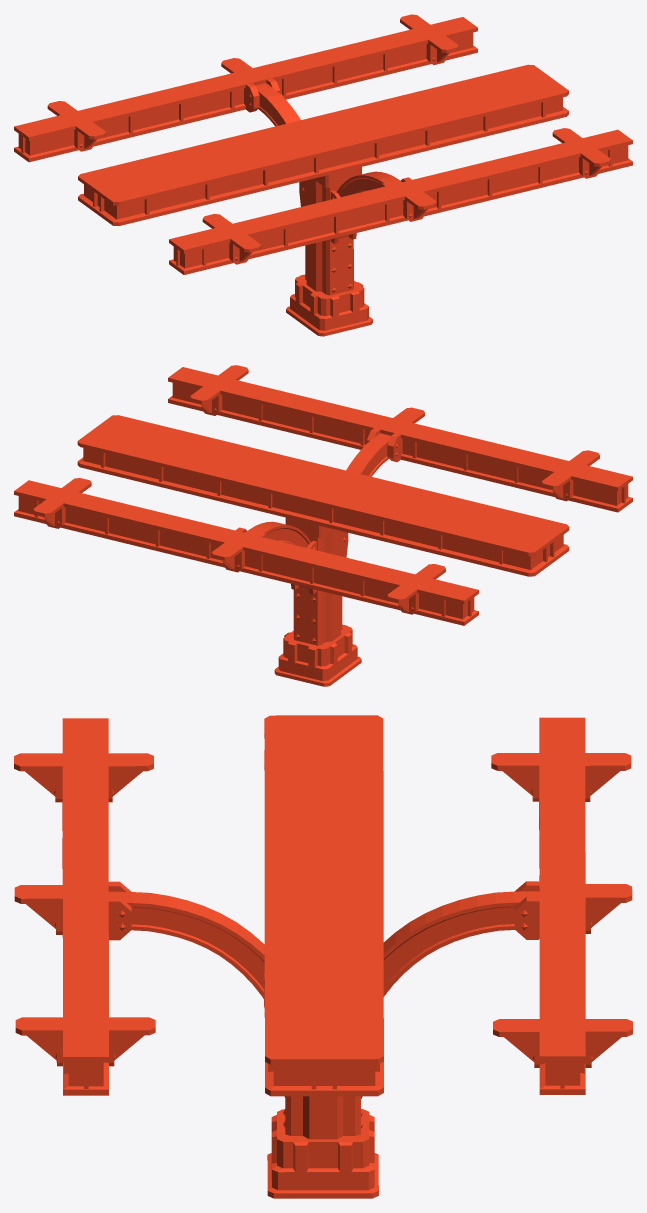
File: SM_Rails_Overground_Pillar_B_City.fbx
3 views of the same model, one above another, from view 1: azimuth 30°, elevation 25°; view 2: azimuth 150°, elevation 25°; view 3: azimuth 270°, elevation 25° (orthographic). The views are drawn at different scales.
Visible parts, largest first — view 1: SM_Rails_Overground_Pillar_B_City; view 2: SM_Rails_Overground_Pillar_B_City; view 3: SM_Rails_Overground_Pillar_B_City.
Part boxes in pixels (x1,y1,x2,y2): SM_Rails_Overground_Pillar_B_City: [14, 14, 632, 336]; SM_Rails_Overground_Pillar_B_City: [14, 365, 632, 686]; SM_Rails_Overground_Pillar_B_City: [14, 715, 632, 1198].
Bounding box in the file's own units: 15.08 × 5.85 × 11.47.
